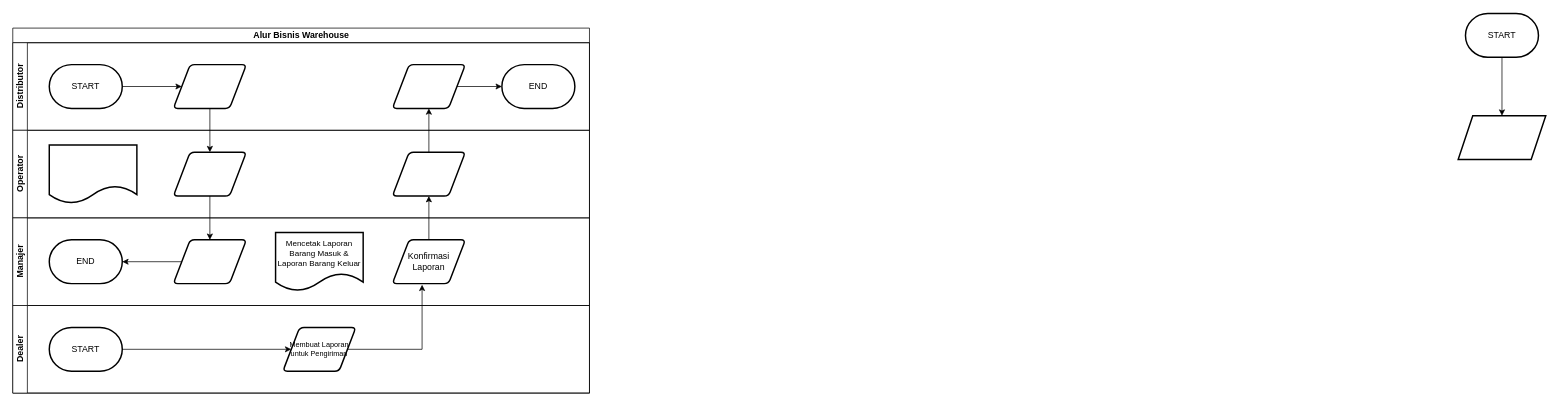
This 1559x406 diagram has some shape labels left out. The shapes that lost their labels are listed below. From the top down, each one's centre as x and y in pixels, then its label:
the point at 209,86: Laporan Barang Masuk
the point at 428,86: Mengambil Laporan
the point at 92,174: Mencetak Laporan Barang di Gudang
the point at 209,173: Mengecek Barang Masuk
the point at 428,173: Memuat Barang
the point at 209,261: Konfirmasi Barang
